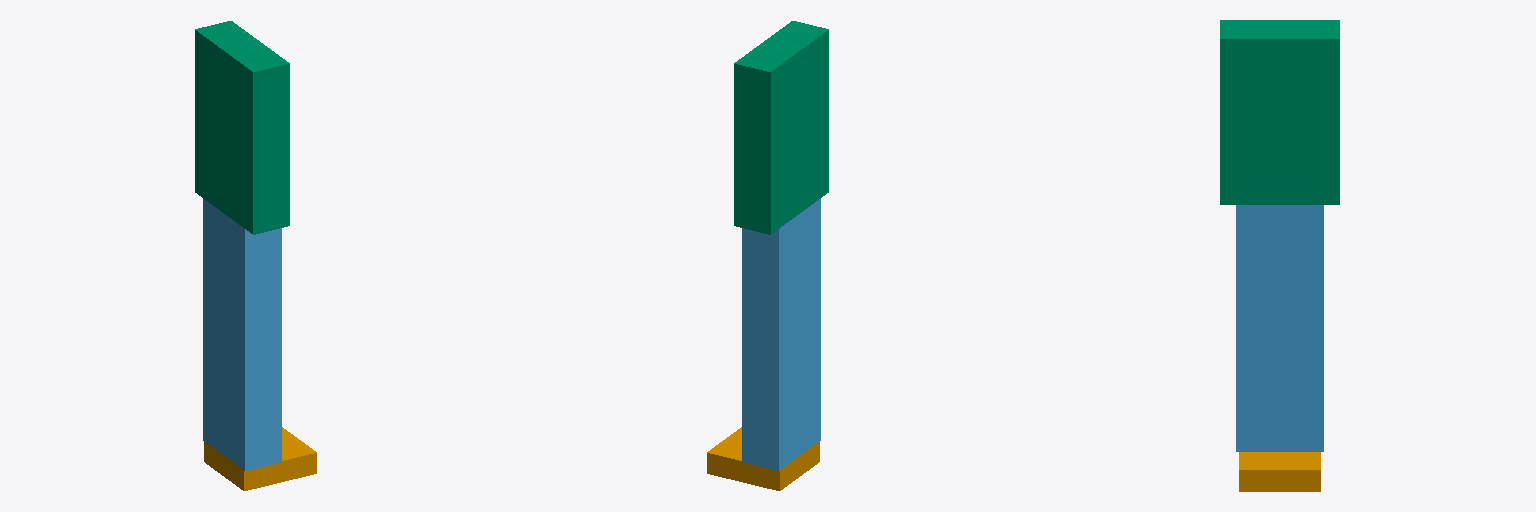
The robot description file, URDF, robot "threeLinkHuman_subject11":
<robot name="threeLinkHuman_subject11">
    <link name="foot">
        <inertial>
            <mass value="5.8636"/>
            <origin xyz="0 0 0.035094" rpy="0 0 0" />
            <inertia ixx="0.031273" iyy="0.034062" izz="0.06052" ixy="0" ixz="0" iyz="0"/>
        </inertial>

        <visual>
			<origin xyz="0 0 0.035094" rpy="0 0 0" />
            <geometry>
                <box size="0.25452 0.24305 0.070188"/>
            </geometry>
        </visual>

        <collision>
			<origin xyz="0 0 0.035094" rpy="0 0 0" />
            <geometry>
                <box size="0.25452 0.24305 0.070188"/>
            </geometry>
        </collision>
    </link>
    
    <link name="leg">
        <inertial>
            <mass value="35.7206"/>
            <origin xyz="0 0 0.40283" rpy="0 0 0" />
            <inertia ixx="2.1303" iyy="1.9804" izz="0.24633" ixy="0" ixz="0" iyz="0"/>
        </inertial>

        <visual>
            <origin xyz="0 0 0.40283" rpy="0 0 0" />
            <geometry>
                <box size="0.12726 0.25798 0.80566"/>
            </geometry>
        </visual>

        <collision>
            <origin xyz="0 0 0.40283" rpy="0 0 0" />
            <geometry>
                <box size="0.12726 0.25798 0.80566"/>
            </geometry>
        </collision>
    </link>
    
    <link name="torso">
        <inertial>
            <mass value="32.9495"/>
            <origin xyz="0 0 0.27063" rpy="0 0 0" />
            <inertia ixx="1.1489" iyy="0.8489" izz="0.38898" ixy="0" ixz="0" iyz="0"/>
        </inertial>

        <visual>
            <origin xyz="0 0 0.27063" rpy="0 0 0" />
            <geometry>
                <box size="0.12726 0.35421 0.54127"/>
            </geometry>
        </visual>

        <collision>
            <origin xyz="0 0 0.27063" rpy="0 0 0" />
            <geometry>
                <box size="0.12726 0.35421 0.54127"/>
            </geometry>
        </collision>
    </link>
        
    <joint name="ankle" type="revolute">
        <origin xyz="-0.063631 0 0.070188" rpy="0 0 0"/>
        <parent link="foot"/>
        <child link="leg"/>
        <dynamics damping="0.1" friction="0.0"/>
        <limit effort="30" velocity="1.0" lower="-10.0" upper="10.0" />
        <axis xyz="0 1 0" />
    </joint>
    
    <joint name="hip" type="revolute">
        <origin xyz="0 0 0.80566" rpy="0 0 0"/>
        <parent link="leg"/>
        <child link="torso"/>
        <dynamics damping="0.1" friction="0.0"/>
        <limit effort="30" velocity="1.0" lower="-10.0" upper="10.0" />
        <axis xyz="0 1 0" />
    </joint>

</robot>

--- What the picture shows (computed from the rendered views, not written in the file) ---
3 views of the same robot in one strip: view 1: azimuth 30°, elevation 25°; view 2: azimuth 150°, elevation 25°; view 3: azimuth 270°, elevation 25° (orthographic).
Robot: threeLinkHuman_subject11 — 3 links, 2 joints (2 revolute); root link foot; default pose: every joint at zero.
Links seen in each view (by area): view 1: leg, torso, foot; view 2: leg, torso, foot; view 3: torso, leg, foot.
Link boxes in pixels (box(x1,y1,x2,y2)): leg: box(203, 199, 281, 470); torso: box(195, 21, 289, 234); foot: box(204, 427, 316, 490); leg: box(742, 199, 820, 470); torso: box(734, 21, 828, 234); foot: box(707, 427, 819, 490); torso: box(1220, 20, 1339, 204); leg: box(1236, 205, 1323, 451); foot: box(1239, 452, 1320, 491).
Size in the robot's own frame: 0.2545 by 0.3542 by 1.42 metres.
Geometry: primitives only (box / cylinder / sphere), no mesh files.
